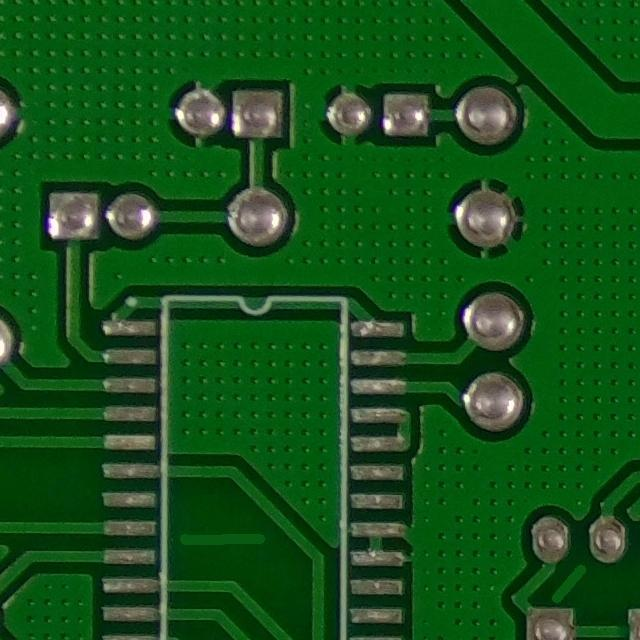spurious_copper: (174, 511, 275, 578), (533, 562, 605, 609)
